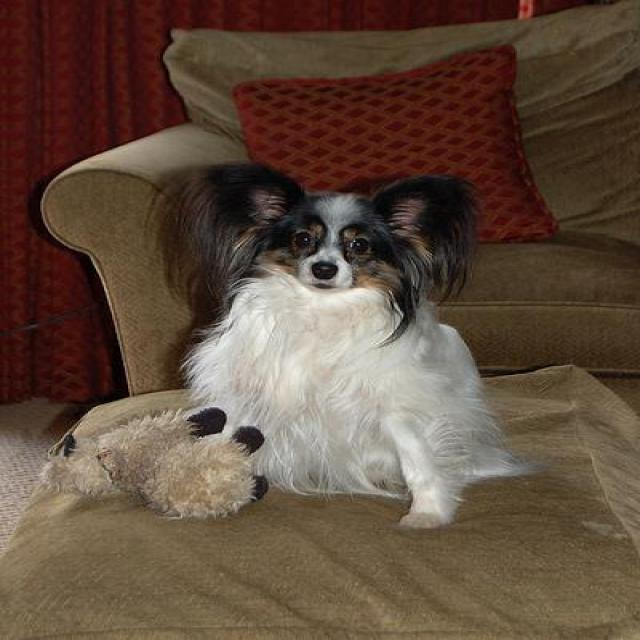papillon: (141, 156, 536, 529)
